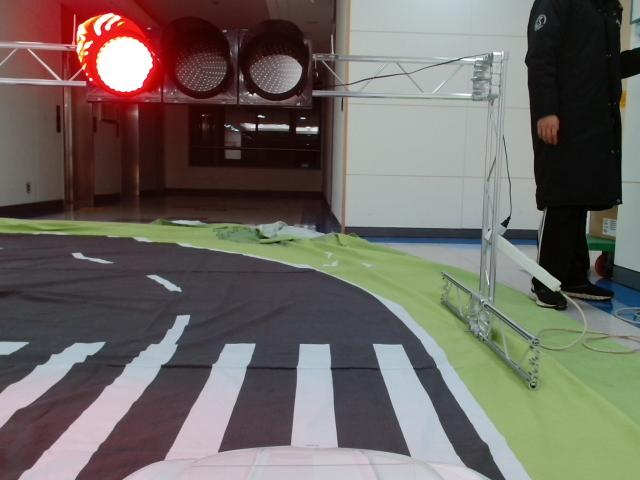crosswalk: (1, 338, 472, 480)
traffic light-red-: (81, 17, 312, 105)
